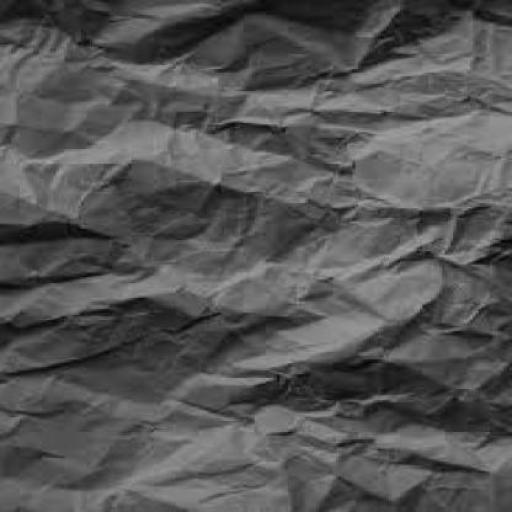paper: (2, 0, 512, 511)
